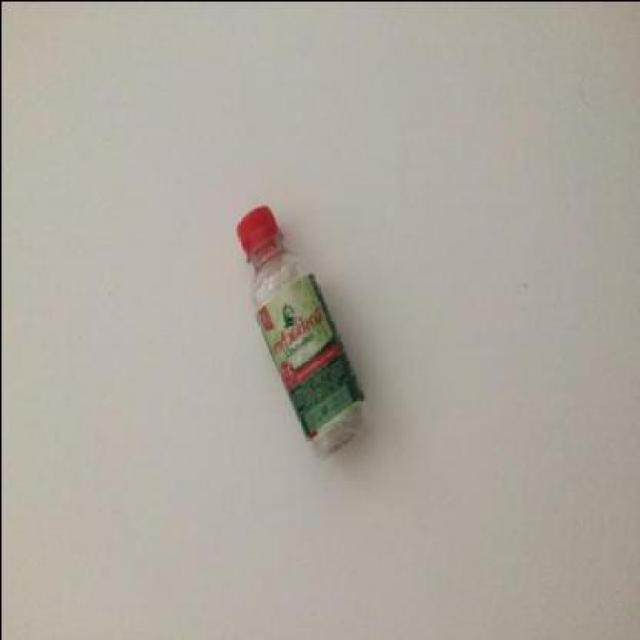PLASTIC: (236, 205, 361, 458), (253, 273, 361, 442), (235, 205, 278, 257)
